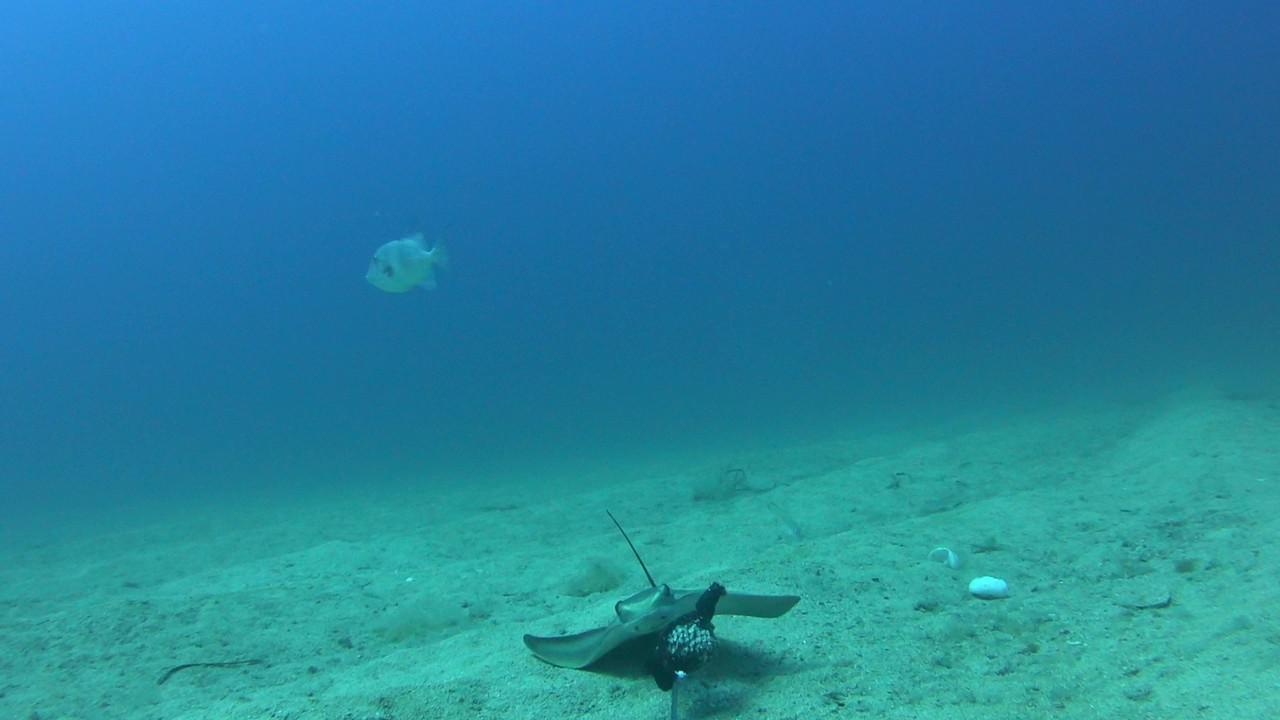balistes: (357, 224, 459, 298)
myliobatis: (499, 496, 823, 663)
